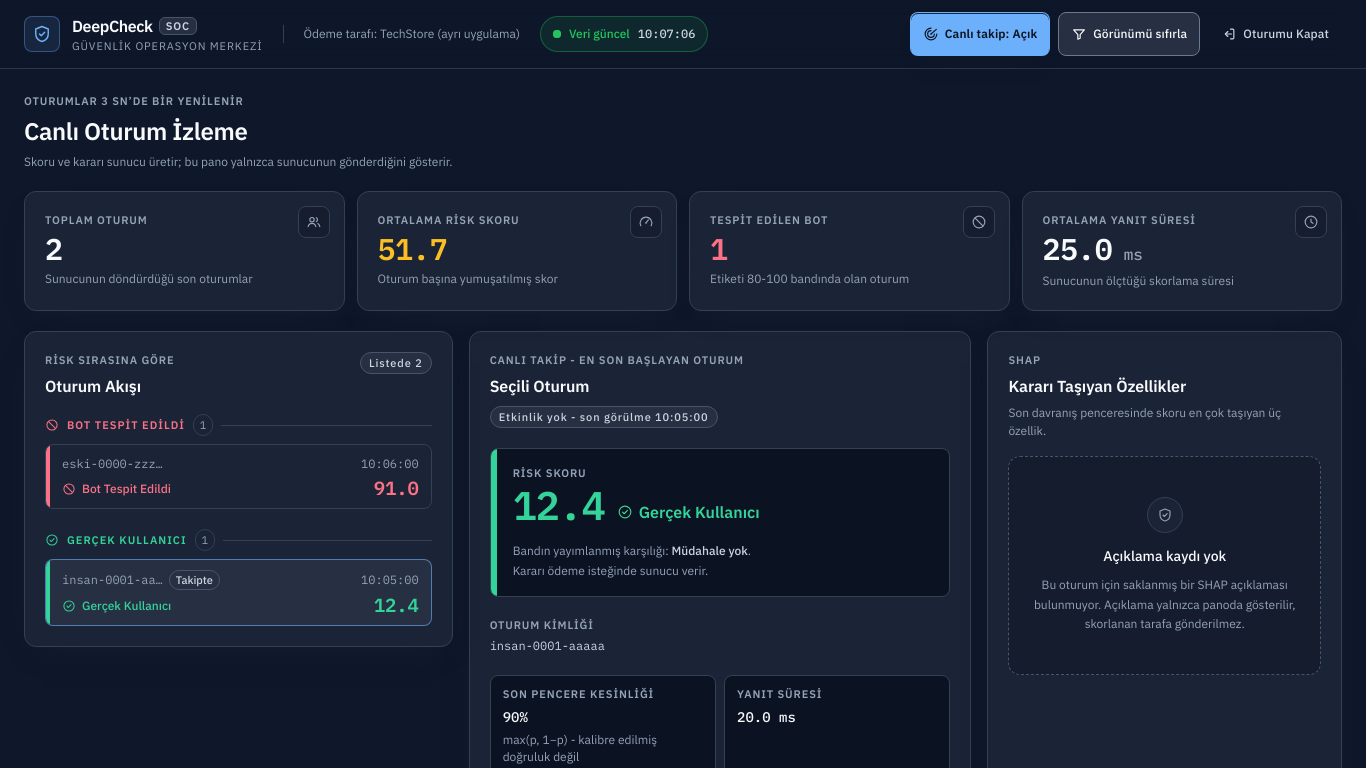
Dashboard live follow › does not file a clicked session as undecided while its detail loads
expect the text "insan-0001-aaaaa" is shown: met, box left=490, top=638, right=605, bottom=653
Click the button "eski-0000-zzz… 10:06:00 Bot Tespit Edildi 91.0" at (109, 464), box left=45, top=444, right=432, bottom=509
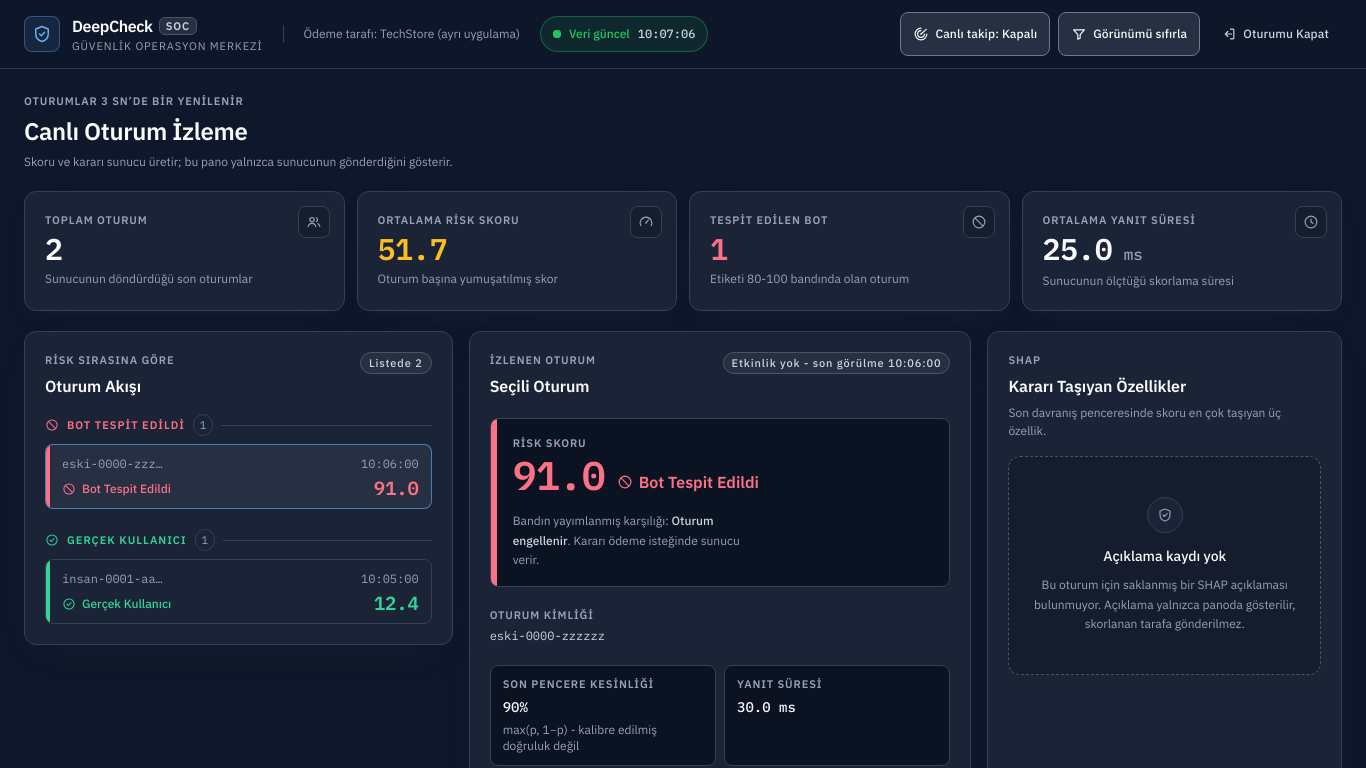
expect the element named "Bot Tespit Edildi (1)" is shown: met, box left=45, top=414, right=432, bottom=509
expect the text "eski-0000-zzzzzz" is shown: met, box left=490, top=628, right=605, bottom=642
